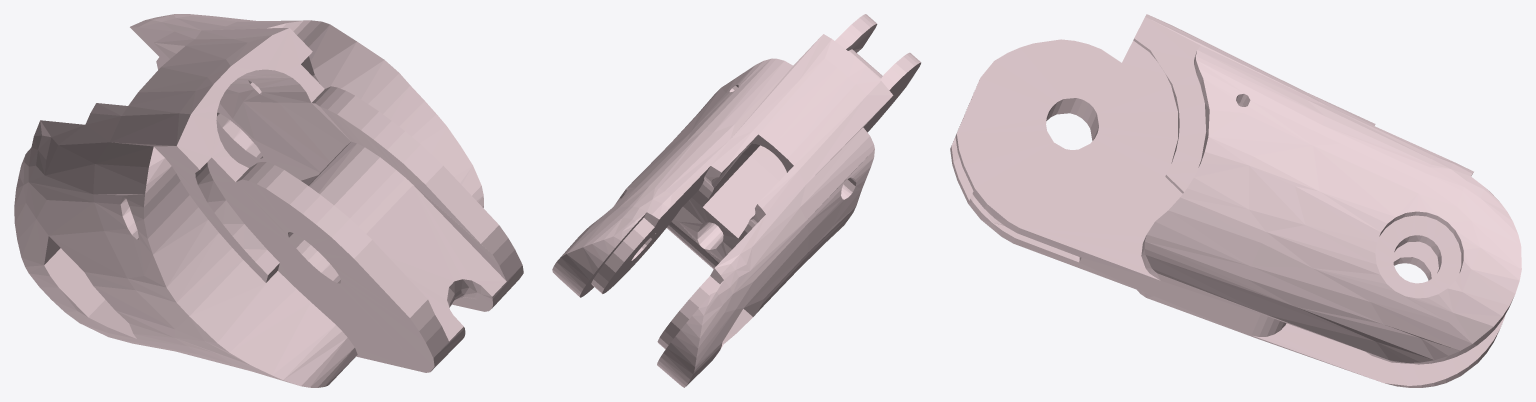
Rendered from i02_rightHand_pinkyMid_visual.obj.light.glb.
3 renders of one model, left to right at view 1: azimuth 30°, elevation 25°; view 2: azimuth 150°, elevation 25°; view 3: azimuth 270°, elevation 25°, orthographic. The views are drawn at different scales.
Size of the model in its own units: 0.2075 by 0.2597 by 0.386.
